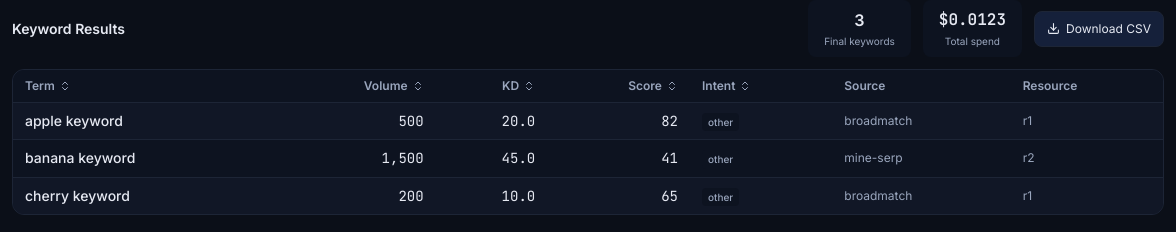
Results › sorts by score when Score header is clicked
Expected: the text "apple keyword" is shown, [13,102,273,140]
Click the column heading "Score" at {"x": 645, "y": 86}, box [547,70,690,102]
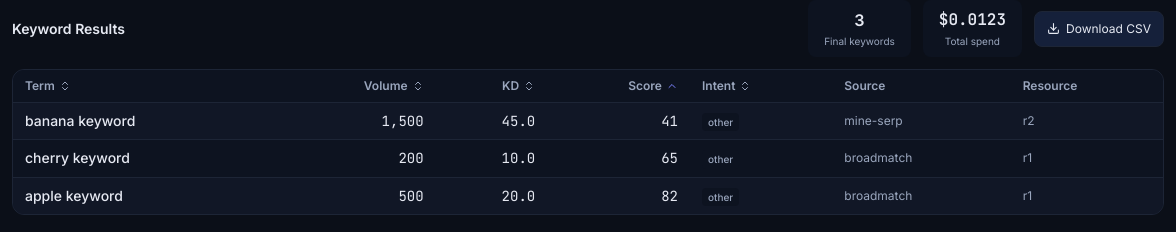
Expected: the row "banana keyword 1,500 45.0 41 other mine-serp r2" is shown, [13,102,1163,140]
Expected: the row "cherry keyword 200 10.0 65 other broadmatch r1" is shown, [13,140,1163,177]
Expected: the row "apple keyword 500 20.0 82 other broadmatch r1" is shown, [13,177,1163,214]
